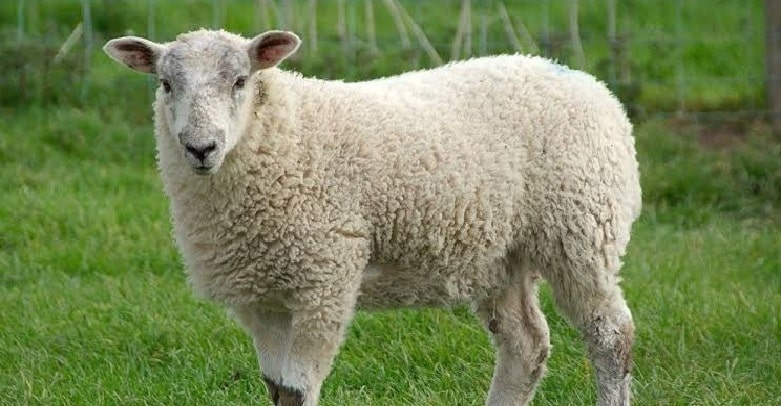koyun: (106, 26, 642, 406)
